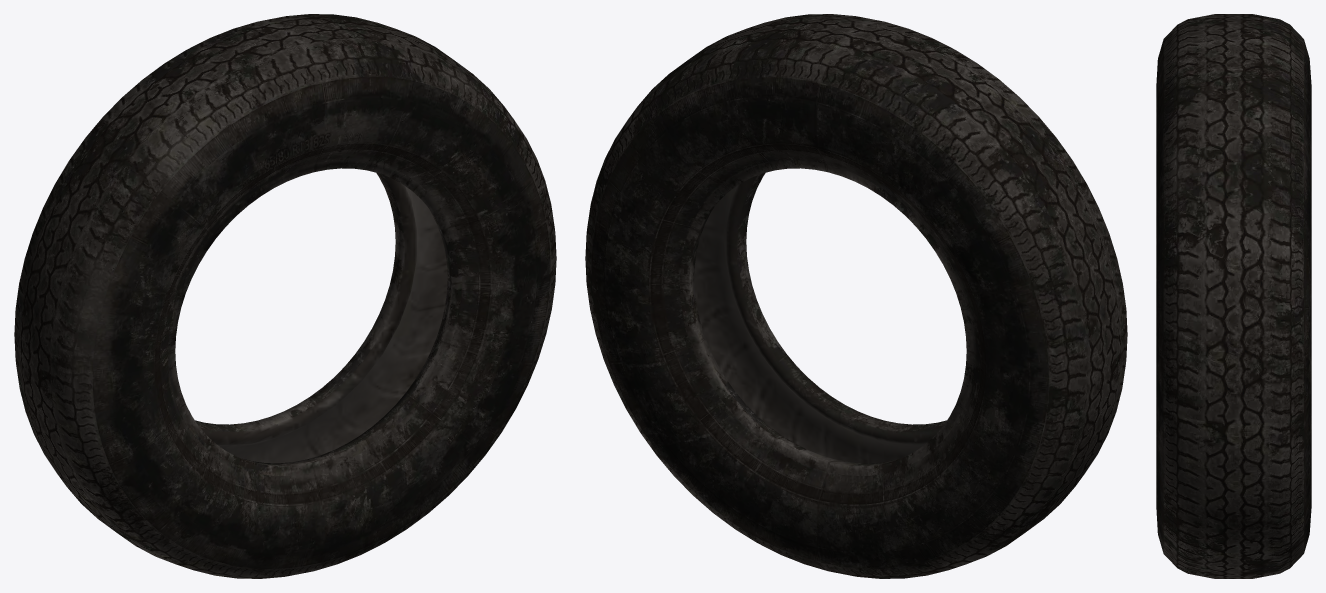
Rendered from old_tyre.glb.
3 views of the same model, side by side, from view 1: azimuth 30°, elevation 25°; view 2: azimuth 150°, elevation 25°; view 3: azimuth 270°, elevation 25° (orthographic). The views are drawn at different scales.
Parts seen in each view (by area): view 1: old_tyre; view 2: old_tyre; view 3: old_tyre.
Part boxes in pixels (x1,y1,x2,y2): old_tyre: [14, 14, 556, 578]; old_tyre: [585, 14, 1127, 578]; old_tyre: [1156, 14, 1311, 578].
Size of the model in its own units: 0.6 by 0.6 by 0.165.
1 material, 1 textured.
